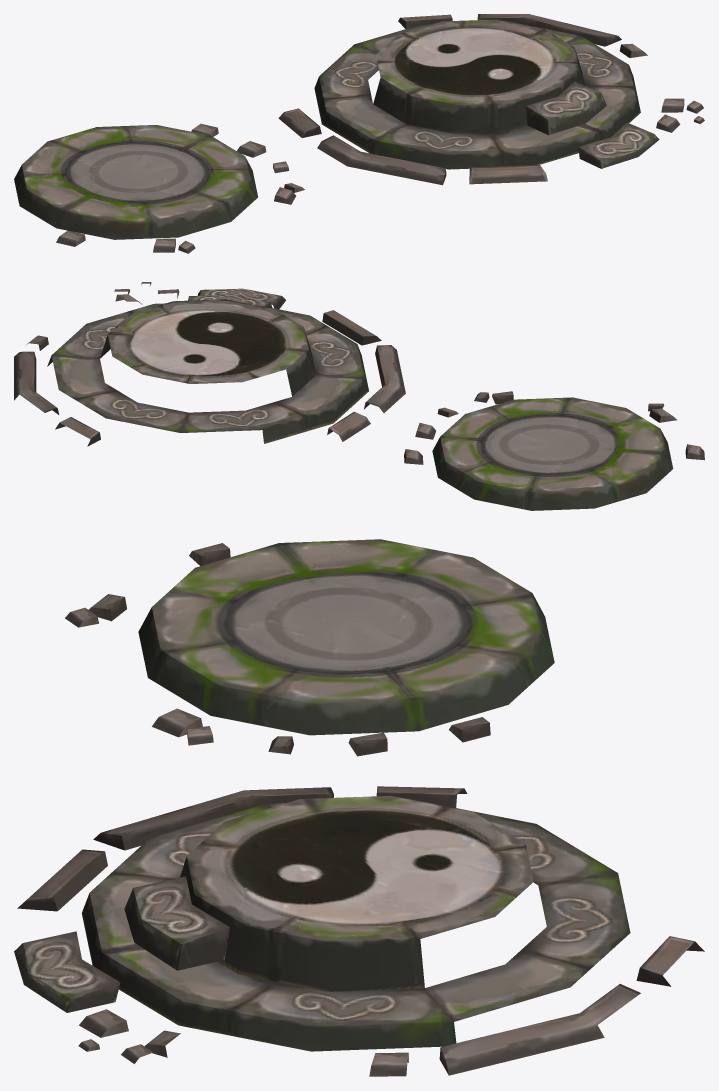
File: pingtai.FBX
3 renders of one model, top to bottom at view 1: azimuth 30°, elevation 25°; view 2: azimuth 150°, elevation 25°; view 3: azimuth 270°, elevation 25°, orthographic. The views are drawn at different scales.
Visible parts, largest first — view 1: Object07, Object12; view 2: Object07, Object12; view 3: Object07, Object12.
Part boxes in pixels (x1=…): Object07: x1=278, y1=14, x2=704, y2=185; Object12: x1=14, y1=123, x2=304, y2=253; Object07: x1=14, y1=282, x2=405, y2=446; Object12: x1=404, y1=391, x2=704, y2=510; Object07: x1=14, y1=786, x2=704, y2=1076; Object12: x1=65, y1=539, x2=554, y2=756.
Size of the model in its own units: 324 by 179 by 18.76.
